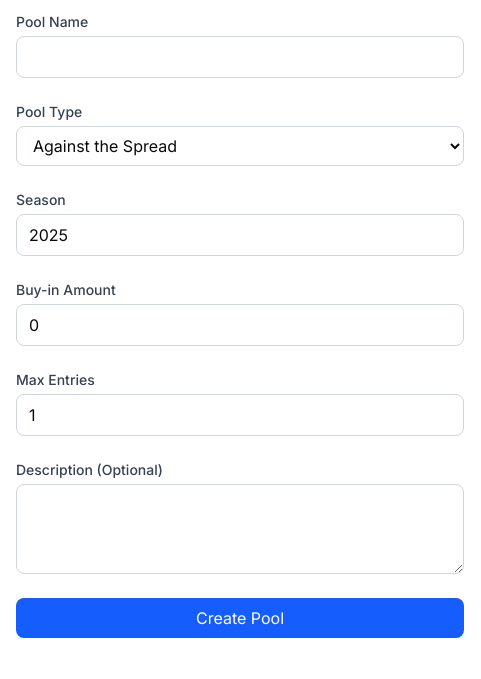
Test: PoolSetup › validates max entries is at least 1
Step 1. Type "Test Pool" into the field labelled "Pool Name" → (240, 57), box x1=16 y1=36 x2=464 y2=78
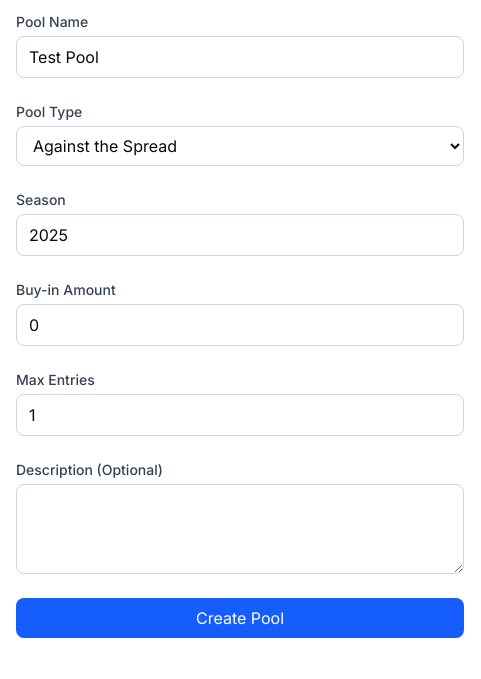
Step 2. Replace the text in the number field labelled "Max Entries" with "0" → (240, 415), box x1=16 y1=394 x2=464 y2=436
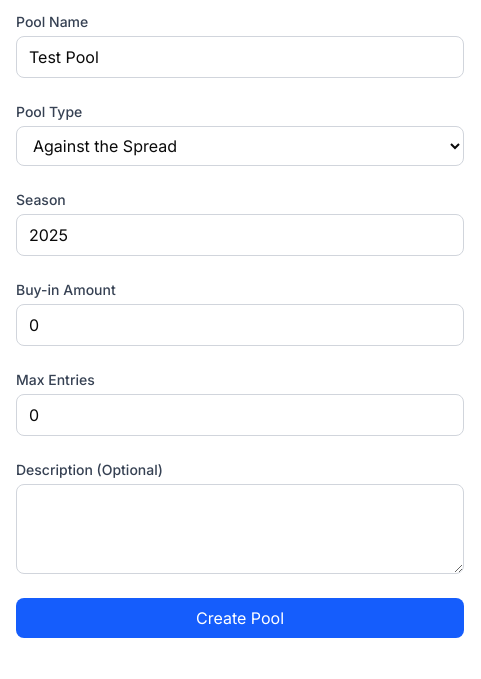
Step 3. Submit the form
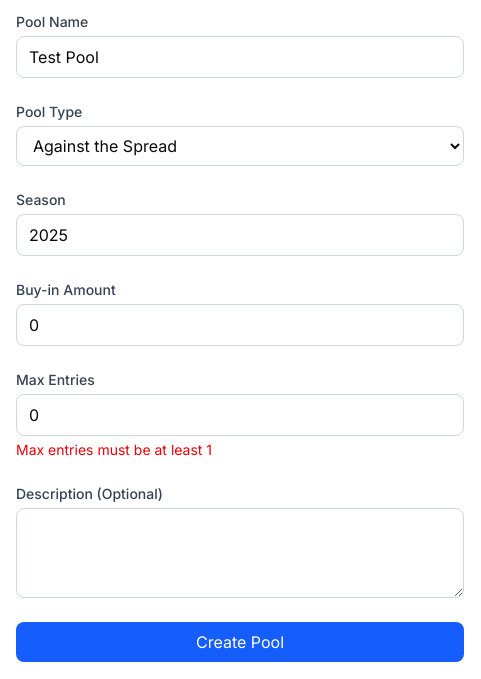
Expected: the text "Max entries must be at least 1" is shown, x1=16 y1=441 x2=212 y2=458
